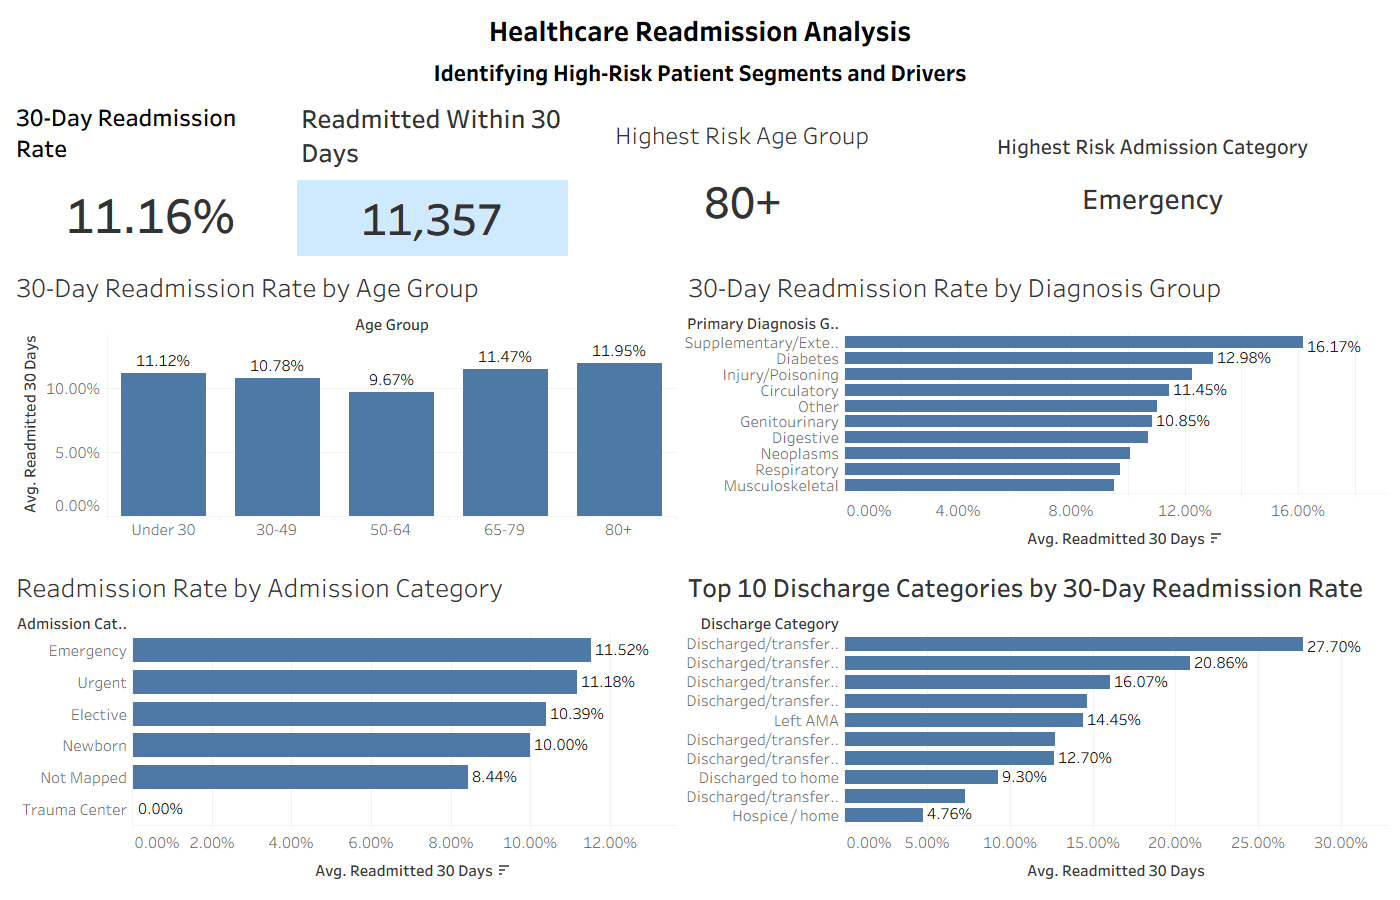

What the dashboard file says about the page in this screenshot:
{"tool":"tableau","page":{"name":"Healthcare Readmission Analysis ","canvas":[1400,900],"ordinal":1},"visuals":[{"type":"text","box":[8,8,1384,45]},{"type":"text","box":[8,53,1384,38]},{"type":"worksheet","title":"KPI - 30 Day Readmission Rate","mark":"Text","box":[8,91,285,169]},{"type":"worksheet","title":"KPI - Readmitted Within 30 Days","mark":"Automatic","box":[293,91,279,169]},{"type":"worksheet","title":"KPI - Highest Risk Age Group","mark":"Text","box":[572,91,342,169]},{"type":"worksheet","title":"KPI - Highest Risk Admission Category","mark":"Automatic","box":[914,91,478,169]},{"type":"worksheet","title":"30-Day Readmission Rate by Age Group","mark":"Automatic","rows":["readmitted_30_days"],"cols":["age_group"],"box":[8,260,672,300]},{"type":"worksheet","title":"30-Day Readmission Rate by Diagnosis Group","mark":"Automatic","rows":["primary_diagnosis_group"],"cols":["readmitted_30_days"],"box":[680,260,712,300]},{"type":"worksheet","title":"Readmission Rate by Admission Category","mark":"Automatic","rows":["admission_category"],"cols":["readmitted_30_days"],"box":[8,560,672,332]},{"type":"worksheet","title":"Readmission Rate by Discharge Category","mark":"Automatic","rows":["discharge_category"],"cols":["readmitted_30_days"],"box":[680,560,712,332]}]}

Visuals, with their boxes in screenshot pixels (x1, y1, x2, y2), scaled from the page's 1400x900 canvas onto the 1400x900 screenshot:
text: [x1=8, y1=8, x2=1392, y2=53]
text: [x1=8, y1=53, x2=1392, y2=91]
"KPI - 30 Day Readmission Rate" worksheet (Text marks): [x1=8, y1=91, x2=293, y2=260]
"KPI - Readmitted Within 30 Days" worksheet: [x1=293, y1=91, x2=572, y2=260]
"KPI - Highest Risk Age Group" worksheet (Text marks): [x1=572, y1=91, x2=914, y2=260]
"KPI - Highest Risk Admission Category" worksheet: [x1=914, y1=91, x2=1392, y2=260]
"30-Day Readmission Rate by Age Group" worksheet: [x1=8, y1=260, x2=680, y2=560]
"30-Day Readmission Rate by Diagnosis Group" worksheet: [x1=680, y1=260, x2=1392, y2=560]
"Readmission Rate by Admission Category" worksheet: [x1=8, y1=560, x2=680, y2=892]
"Readmission Rate by Discharge Category" worksheet: [x1=680, y1=560, x2=1392, y2=892]
